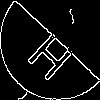H: (25, 25, 81, 83)
